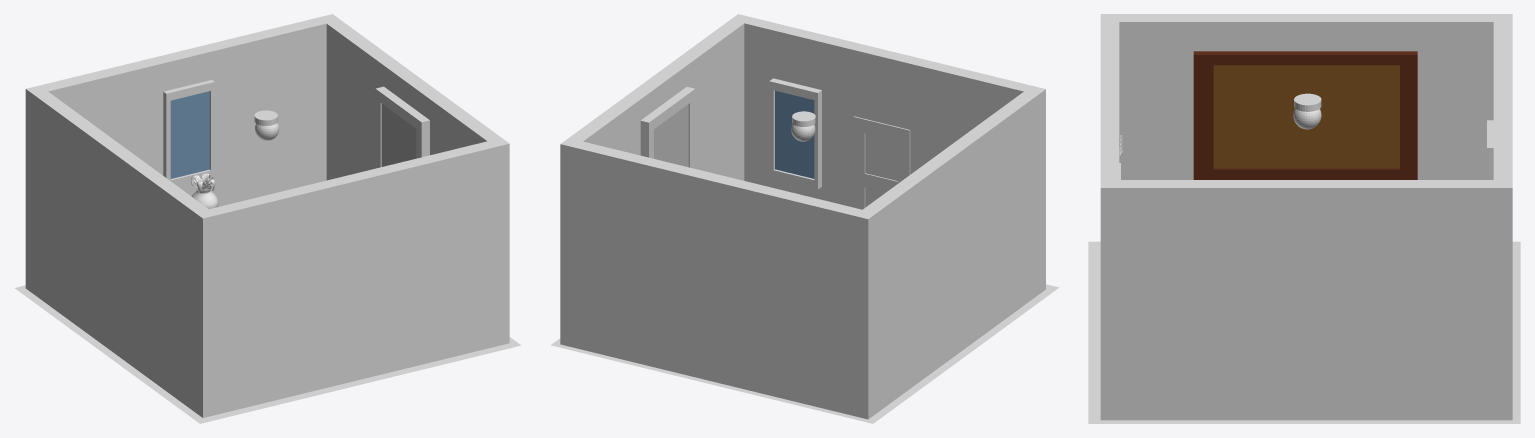
Rendered from SalaEspera.fbx.
The picture shows the model from 3 angles, left to right: view 1: azimuth 30°, elevation 25°; view 2: azimuth 150°, elevation 25°; view 3: azimuth 270°, elevation 25°; orthographic projection. The views are drawn at different scales.
Parts seen in each view (by area): view 1: Muro, Piso, Ventana3, Cube_Cube.003, Cube_Cube.000, LienzoDePintura; view 2: Muro, Cube_Cube.004, Piso, Ventana2, Cube_Cube.002, Cube_Cube.000, LienzoDePintura; view 3: Muro, Corcho, Cube_Cube.001, Piso, Sphere, Cylinder, Cube_Cube.003.
Boxes of the visible parts, x1,y1,x2,y2 form: Muro: (25, 14, 509, 417); Piso: (15, 285, 521, 423); Ventana3: (170, 91, 209, 178); Cube_Cube.003: (163, 80, 214, 186); Cube_Cube.000: (375, 86, 429, 168); LienzoDePintura: (381, 104, 416, 166); Muro: (560, 14, 1045, 419); Cube_Cube.004: (853, 116, 910, 209); Piso: (551, 284, 1059, 423); Ventana2: (775, 90, 814, 178); Cube_Cube.002: (769, 78, 821, 189); Cube_Cube.000: (640, 87, 695, 168); LienzoDePintura: (654, 104, 688, 167); Muro: (1100, 14, 1512, 420); Corcho: (1213, 65, 1399, 168); Cube_Cube.001: (1193, 51, 1417, 179); Piso: (1088, 241, 1520, 423); Sphere: (1293, 108, 1321, 129); Cylinder: (1294, 93, 1321, 111); Cube_Cube.003: (1487, 120, 1493, 179).
Size of the model in its own units: 1153 by 691 by 1153.
